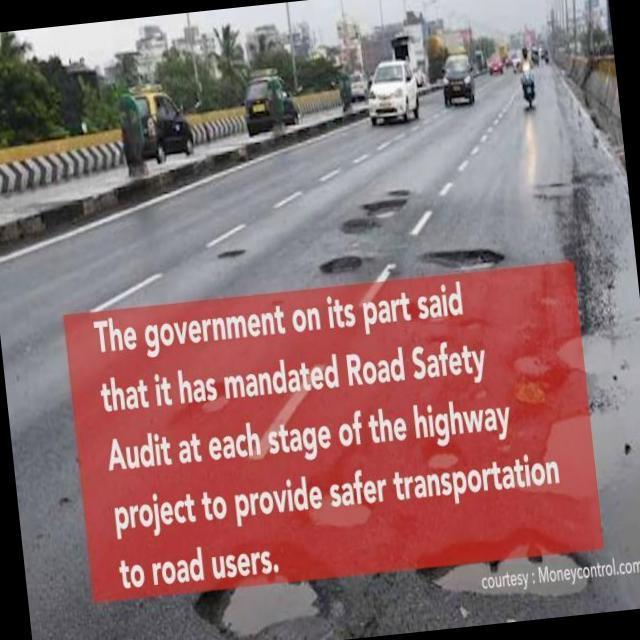Pothole: (198, 544, 333, 640), (419, 535, 593, 598), (516, 406, 632, 498), (554, 330, 625, 375), (307, 491, 372, 527), (428, 244, 502, 270), (410, 442, 459, 470), (368, 196, 407, 220), (339, 212, 375, 235), (321, 256, 361, 276), (509, 349, 542, 373), (213, 249, 250, 261), (382, 185, 414, 198)
